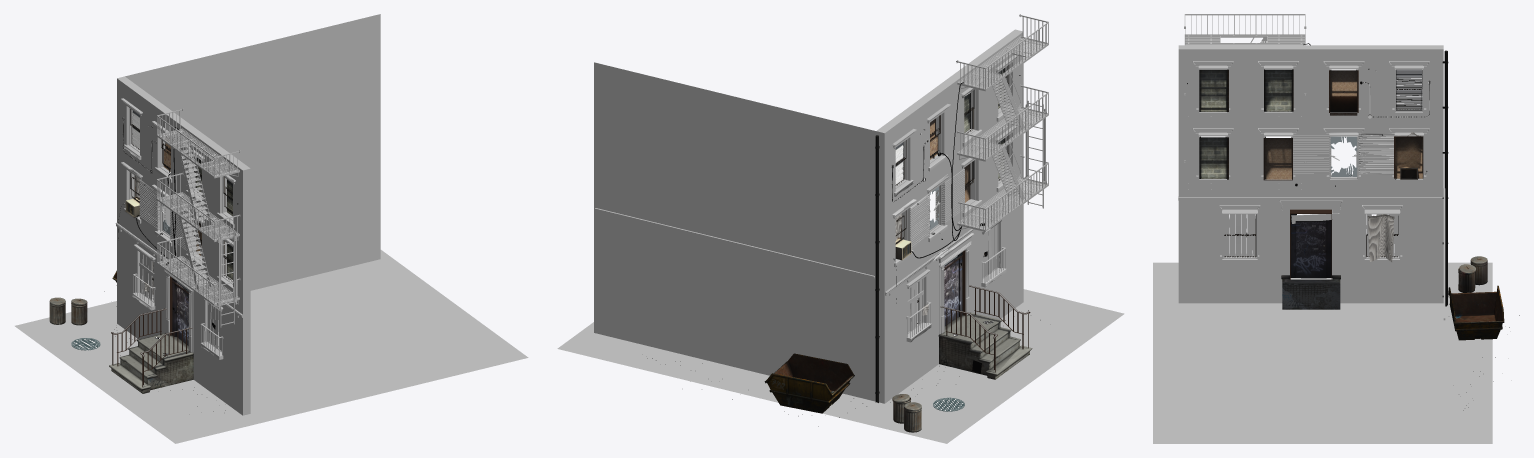
The model's file is nyc.fbx.
3 renders of one model, left to right at view 1: azimuth 30°, elevation 25°; view 2: azimuth 150°, elevation 25°; view 3: azimuth 270°, elevation 25°, orthographic. The views are drawn at different scales.
Parts seen in each view (by area): view 1: SIDE_WALL; view 2: SIDE_WALL; view 3: SIDE_WALL.
Boxes of the visible parts, left/top/right/bottom form: SIDE_WALL: left=15, top=14, right=528, bottom=443; SIDE_WALL: left=557, top=14, right=1124, bottom=443; SIDE_WALL: left=1153, top=14, right=1519, bottom=443.
Bounding box in the file's own units: 1458 × 1049 × 1245.
